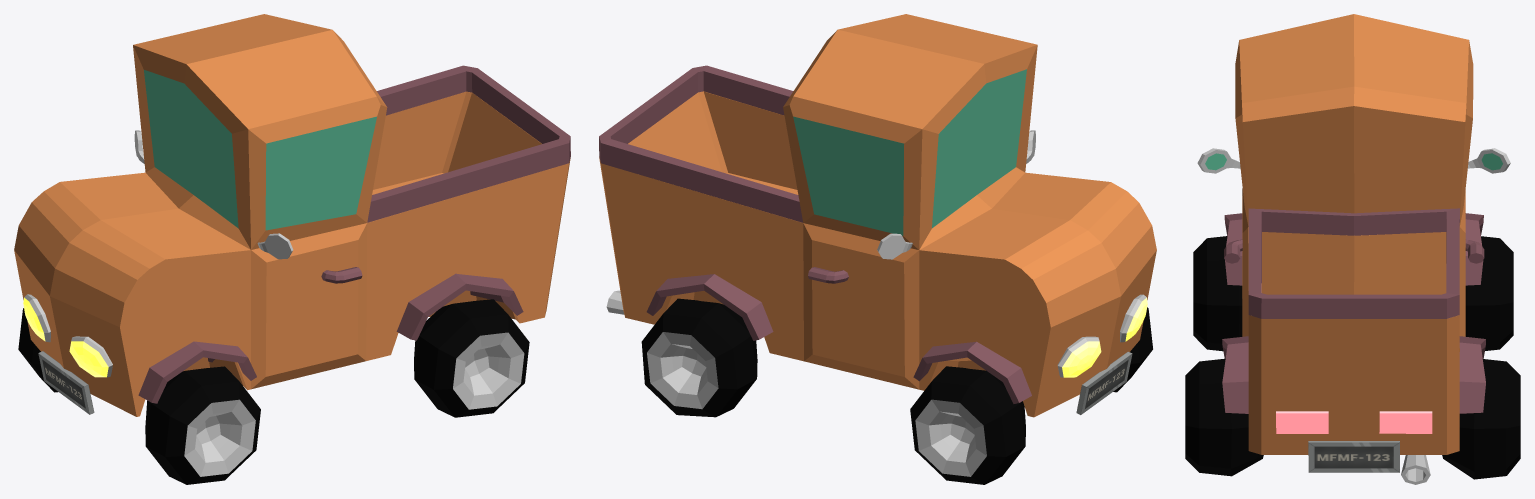
File: Truck_final.fbx
The picture shows the model from 3 angles, left to right: view 1: azimuth 30°, elevation 25°; view 2: azimuth 150°, elevation 25°; view 3: azimuth 270°, elevation 25°; orthographic projection.
Visible parts, largest first — view 1: Truck, tire_frontal, tire_behind; view 2: Truck, tire_frontal, tire_behind; view 3: Truck, tire_behind, tire_frontal.
Boxes of the visible parts, x1,y1,x2,y2 form: Truck: [14, 14, 570, 416]; tire_frontal: [18, 308, 260, 484]; tire_behind: [414, 299, 529, 417]; Truck: [599, 14, 1156, 417]; tire_frontal: [910, 307, 1152, 484]; tire_behind: [641, 298, 757, 417]; Truck: [1197, 14, 1510, 484]; tire_behind: [1185, 358, 1520, 479]; tire_frontal: [1193, 236, 1513, 351].
Size of the model in its own units: 879 by 630 by 538.
Materials: 9 (1 with a texture image).
